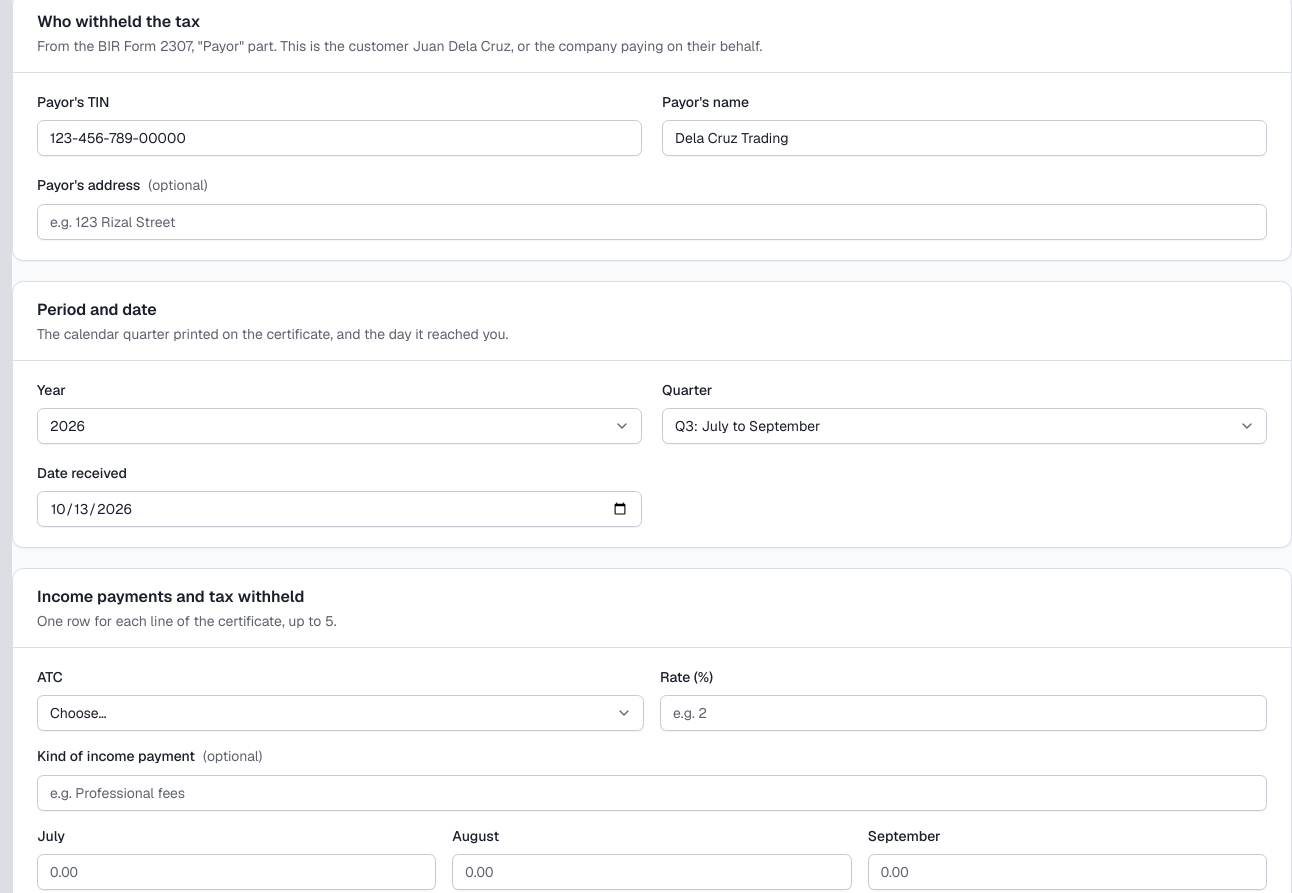
Scenario: the payments it covers › changes the list with the quarter, ticking what falls inside it
Select "Q4: October to December" in the dropdown labelled "Quarter" at (964,426), box [662,408,1267,444]
(page scrolled)
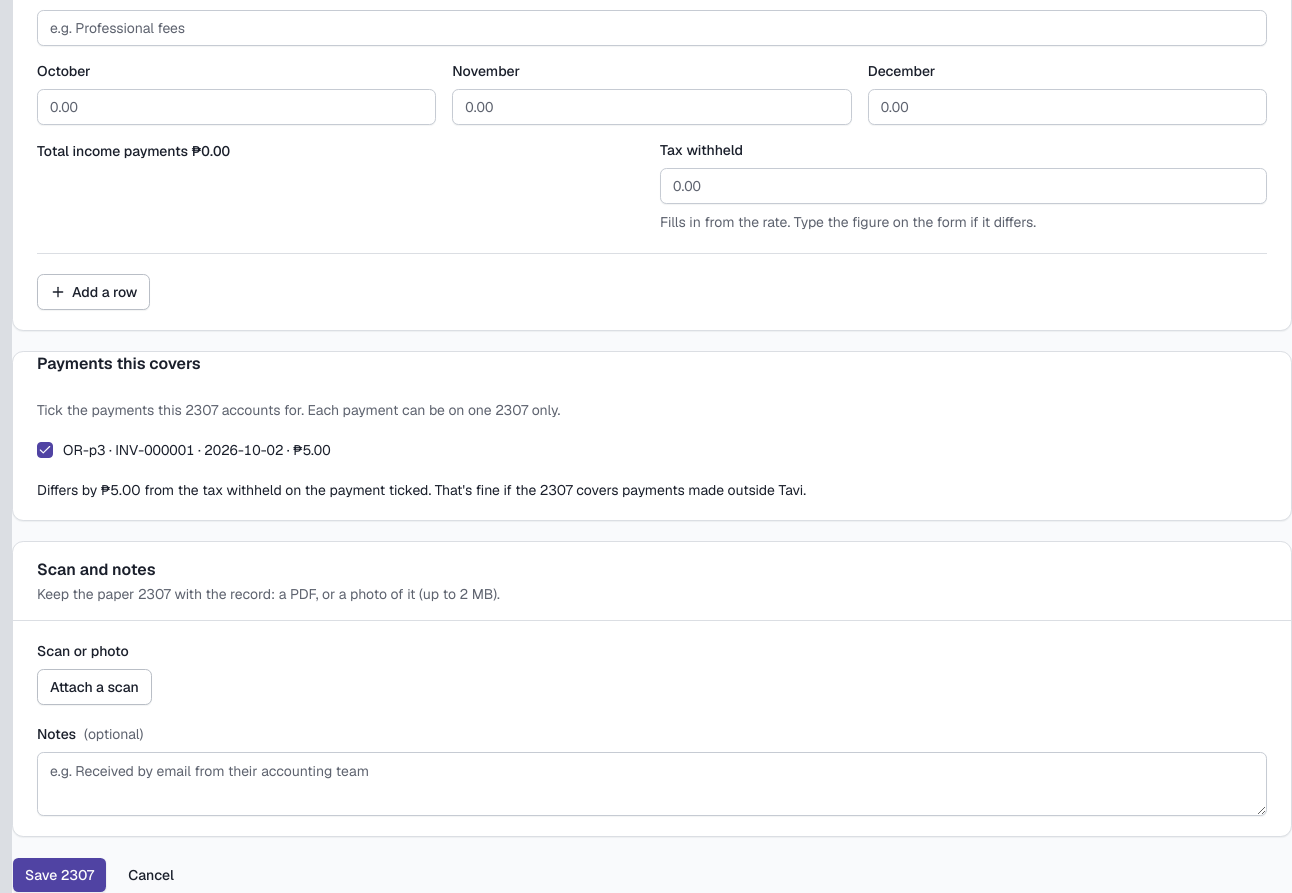
Now the checkbox named "OR-p3" is checked, box [37,442,53,458]
